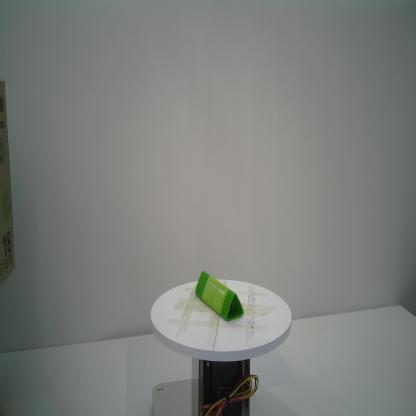Stationery: (193, 269, 246, 325)
